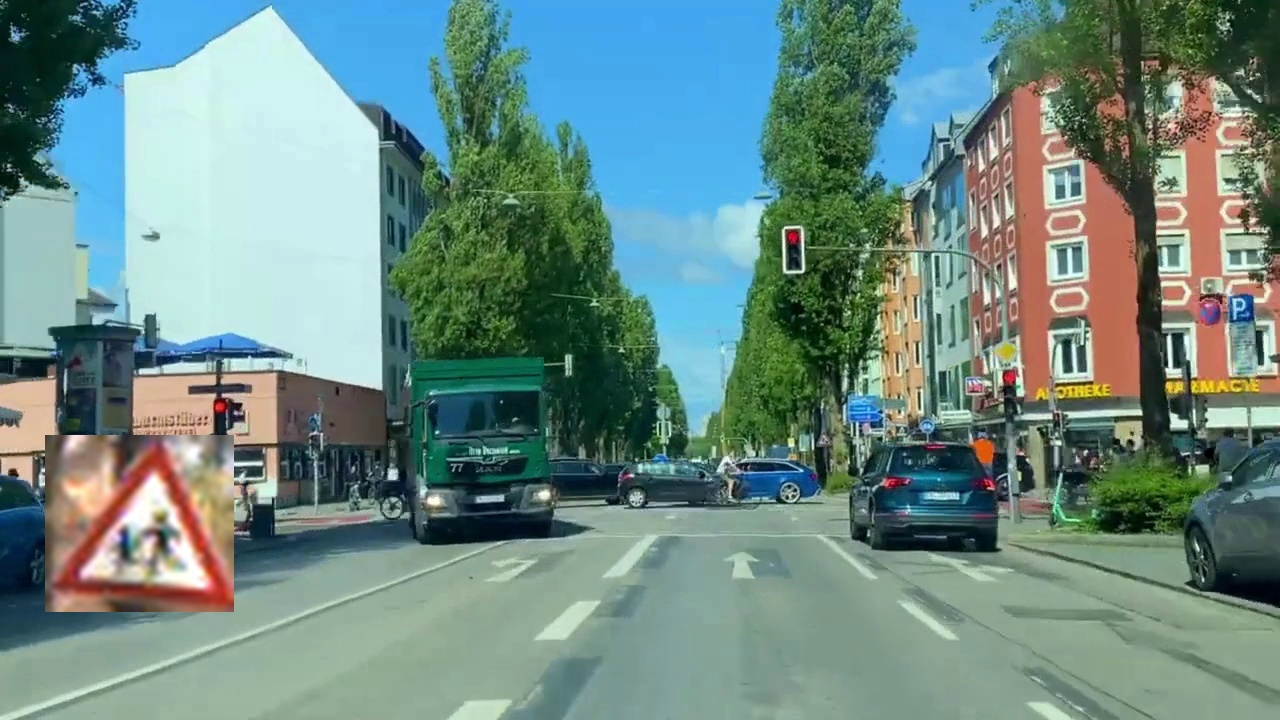Children: (45, 435, 234, 612)
